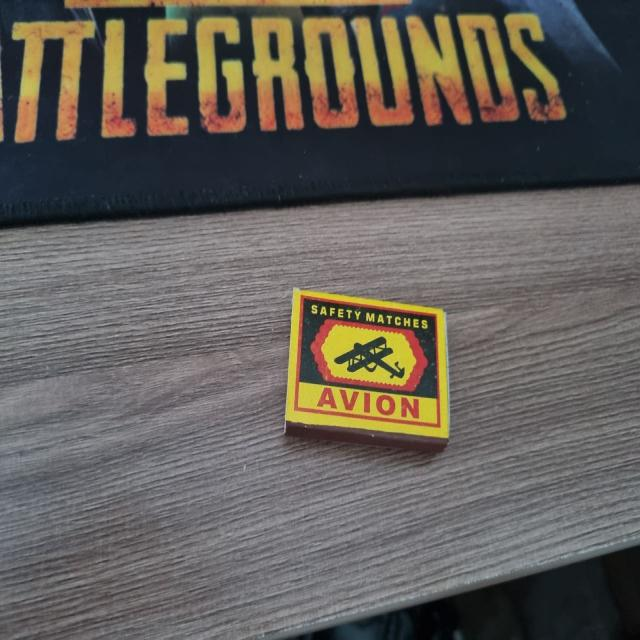match: (281, 282, 456, 467)
